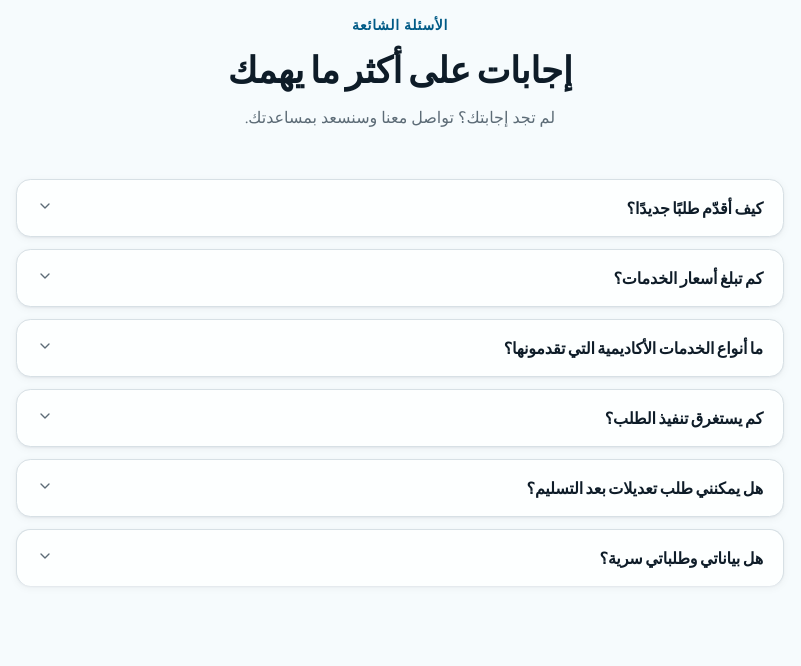
Test case: home page sections › shows the price range in the pricing FAQ answer
Click the button "كم تبلغ أسعار الخدمات؟" at {"x": 688, "y": 278}, box [37, 250, 763, 306]
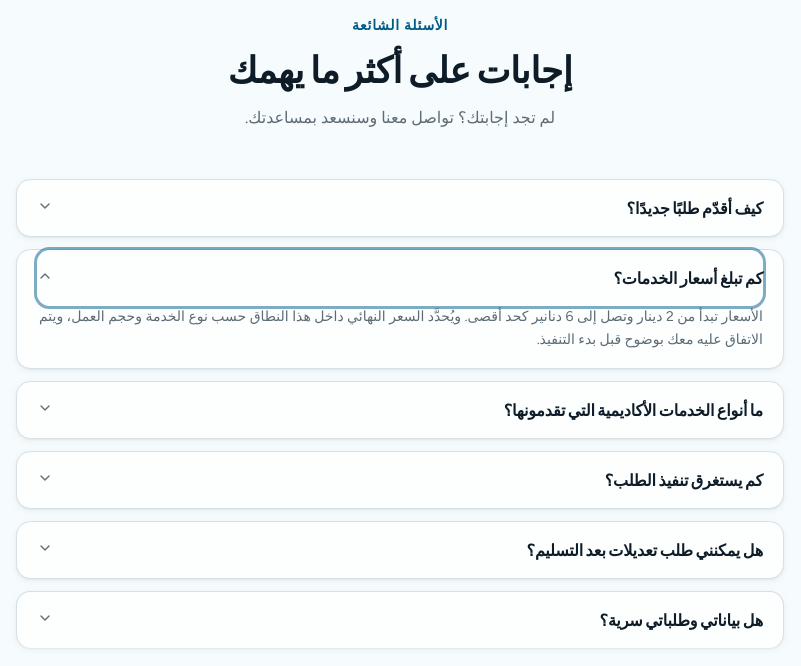
Expected: the text "الأسعار تبدأ من 2 دينار وتصل إلى 6 دنانير كحد أقصى." is shown, [39, 308, 763, 348]
